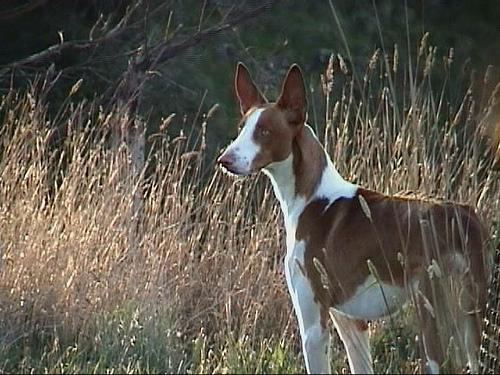Ibizan_hound: (214, 59, 495, 371)
